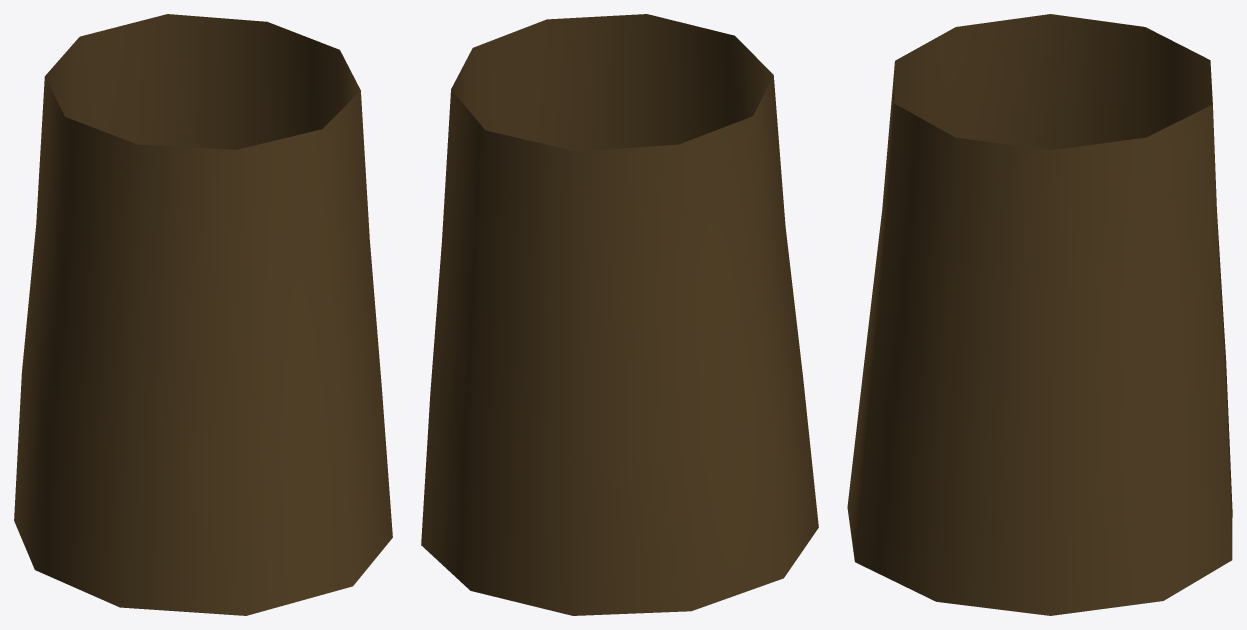
The model's file is mining_outfit_bracer.L.glb.
The picture shows the model from 3 angles, left to right: view 1: azimuth 30°, elevation 25°; view 2: azimuth 150°, elevation 25°; view 3: azimuth 270°, elevation 25°; orthographic projection.
Visible parts, largest first — view 1: mining_outfit_bracer.L; view 2: mining_outfit_bracer.L; view 3: mining_outfit_bracer.L.
Part boxes in pixels (left/top/right/bottom): mining_outfit_bracer.L: left=14, top=14, right=392, bottom=615; mining_outfit_bracer.L: left=421, top=14, right=818, bottom=615; mining_outfit_bracer.L: left=847, top=14, right=1232, bottom=615.
Bounding box in the file's own units: 0.1212 × 0.1562 × 0.1203.
